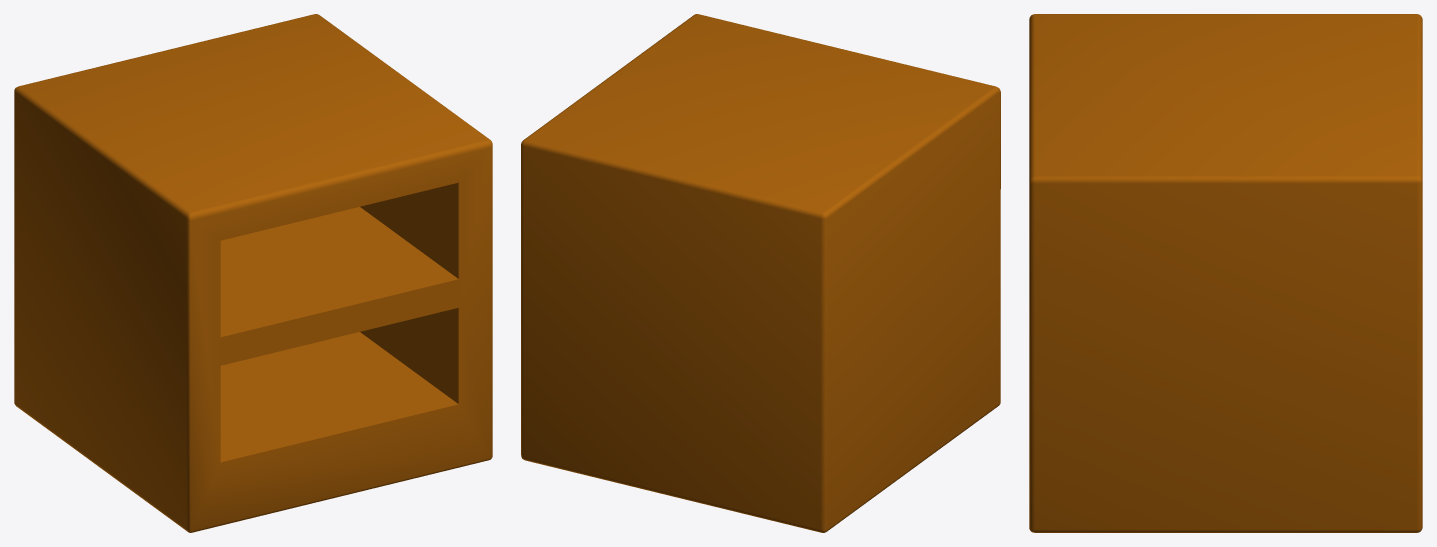
The model's file is lemari.fbx.
3 renders of one model, left to right at view 1: azimuth 30°, elevation 25°; view 2: azimuth 150°, elevation 25°; view 3: azimuth 270°, elevation 25°, orthographic. The views are drawn at different scales.
Visible parts, largest first — view 1: Cube.006; view 2: Cube.006; view 3: Cube.006.
Part boxes in pixels (box(x1,y1,x2,y2)): Cube.006: box(14, 14, 492, 532); Cube.006: box(521, 14, 1000, 532); Cube.006: box(1029, 14, 1422, 532).
Size of the model in its own units: 162 by 162 by 162.
